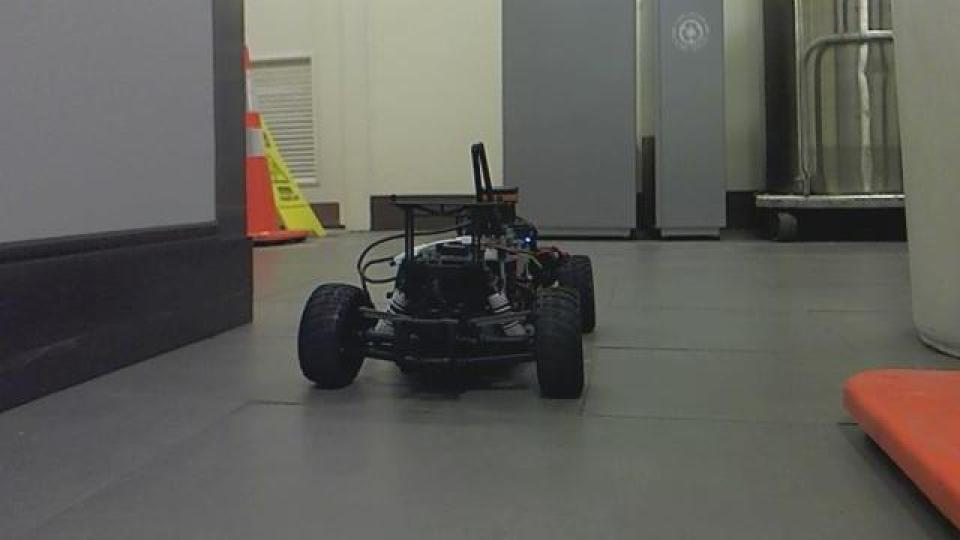car: (294, 140, 598, 402)
